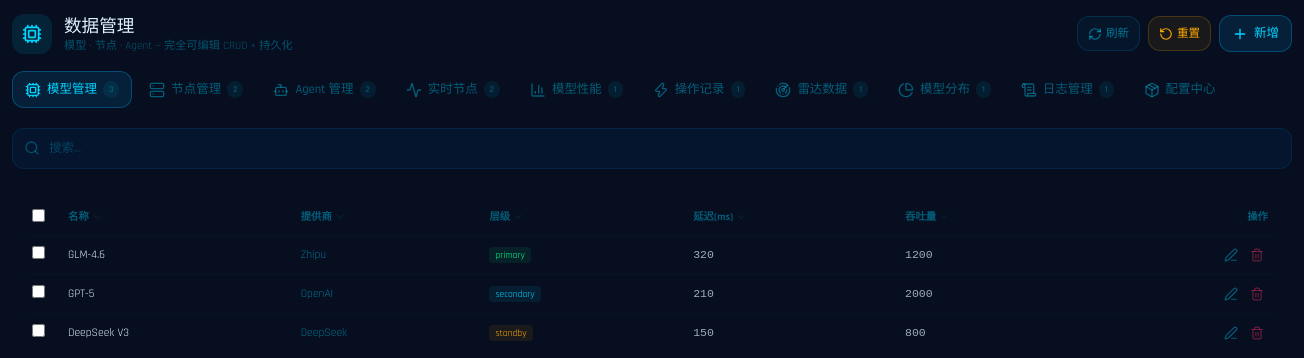
Test: DataEditorPanel 全链路 › Agent tab: 渲染 + 编辑保存走 updateDbAgent
Later steps or results of the test are not shown.
Expected: the text "GLM-4.6" is shown, [68,247,105,262]
Click the button "Agent 管理 2".
click(325, 90)  # box [260,71,389,108]
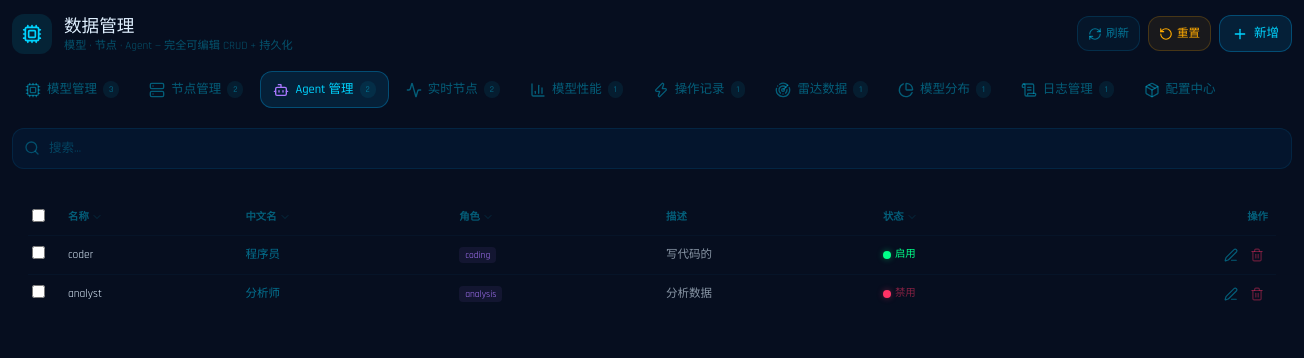
Expected: the text "coder" is shown, [68,247,93,262]
